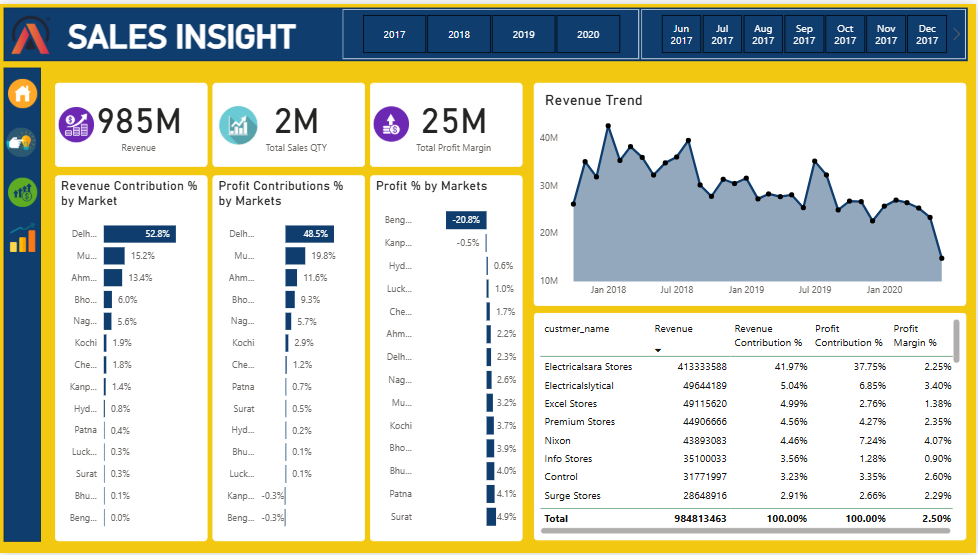

This screenshot's page, from the dashboard's own definition file:
{"tool":"powerbi","page":{"name":"Profit Analysis ","canvas":[1280,720],"ordinal":2},"visuals":[{"type":"barChart","title":"Revenue Contribution % by Market","fields":{"Category":["sales markets.markets_name"],"Y":["Profit Target.Revenue Contribution %"]},"box":[71.4,224.3,200,480],"z":0},{"type":"barChart","title":"Profit % by Markets","fields":{"Category":["sales markets.markets_name"],"Y":["Profit Target.Profit Margin %"]},"box":[485.7,224.3,200,480],"z":1000},{"type":"tableEx","title":" ","fields":{"Values":["sales customers.custmer_name","Profit Target.Revenue","Profit Target.Revenue Contribution %","Profit Target.Profit Contribution %","Profit Target.Profit Margin %"]},"box":[700,405.7,567.1,298.6],"z":2000},{"type":"lineChart","title":"  ","fields":{"Y":["Profit Target.Revenue"],"Category":["sales date.cy_date"]},"box":[700,102.9,567.1,292.9],"z":3000},{"type":"card","fields":{"Values":["Profit Target.Revenue"]},"box":[71.4,102.9,200,110],"z":4000},{"type":"card","fields":{"Values":["Profit Target.Total Sales QTY"]},"box":[278.6,102.9,200,110],"z":5000},{"type":"shape","box":[5.7,5.7,1264.3,70],"z":6000},{"type":"slicer","fields":{"Values":["sales date.year"]},"box":[448.6,7.1,388.6,65.7],"z":7000},{"type":"slicer","fields":{"Values":["sales date.cy_date"]},"box":[841.4,7.1,425.7,65.7],"z":8000},{"type":"shape","box":[5.7,82.9,48.6,621.4],"z":9000},{"type":"textbox","box":[710,110,288.6,37.1],"z":10000},{"type":"barChart","title":"Profit Contributions % by Markets","fields":{"Category":["sales markets.markets_name"],"Y":["Profit Target.Profit Contribution %"]},"box":[278.6,224.3,200,480],"z":11000},{"type":"card","fields":{"Values":["Profit Target.Total Profit Margin"]},"box":[485.7,102.9,200,110],"z":12000},{"type":"image","box":[9.6,4.1,61.7,70],"z":13000},{"type":"textbox","box":[41.2,13.7,395.2,79.6],"z":14000},{"type":"image","box":[2.7,93.3,53.5,48],"z":15000},{"type":"image","box":[0,157.8,53.5,48],"z":16000},{"type":"image","box":[2.7,223.7,53.5,48],"z":17000},{"type":"image","box":[2.7,281.3,53.5,48],"z":18000},{"type":"image","box":[485.8,124.9,56.3,65.9],"z":19000},{"type":"image","box":[209.9,112.5,205.8,91.9],"z":20000},{"type":"image","box":[71.4,126.2,56.3,64.5],"z":21000}]}

Visuals, with their boxes in screenshot pixels (x1, y1, x2, y2), scaled from the page's 1280x720 canvas onto the 978x555 screenshot:
"Revenue Contribution % by Market" barChart: [x1=55, y1=173, x2=207, y2=543]
"Profit % by Markets" barChart: [x1=371, y1=173, x2=524, y2=543]
" " tableEx: [x1=535, y1=313, x2=968, y2=543]
"  " lineChart: [x1=535, y1=79, x2=968, y2=305]
card - Profit Target.Revenue: [x1=55, y1=79, x2=207, y2=164]
card - Profit Target.Total Sales QTY: [x1=213, y1=79, x2=366, y2=164]
shape: [x1=4, y1=4, x2=970, y2=58]
slicer - sales date.year: [x1=343, y1=5, x2=640, y2=56]
slicer - sales date.cy_date: [x1=643, y1=5, x2=968, y2=56]
shape: [x1=4, y1=64, x2=41, y2=543]
textbox: [x1=542, y1=85, x2=763, y2=113]
"Profit Contributions % by Markets" barChart: [x1=213, y1=173, x2=366, y2=543]
card - Profit Target.Total Profit Margin: [x1=371, y1=79, x2=524, y2=164]
image: [x1=7, y1=3, x2=54, y2=57]
textbox: [x1=31, y1=11, x2=333, y2=72]
image: [x1=2, y1=72, x2=43, y2=109]
image: [x1=0, y1=122, x2=41, y2=159]
image: [x1=2, y1=172, x2=43, y2=209]
image: [x1=2, y1=217, x2=43, y2=254]
image: [x1=371, y1=96, x2=414, y2=147]
image: [x1=160, y1=87, x2=318, y2=158]
image: [x1=55, y1=97, x2=98, y2=147]
